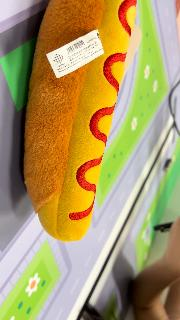hotdog: (23, 1, 139, 243)
